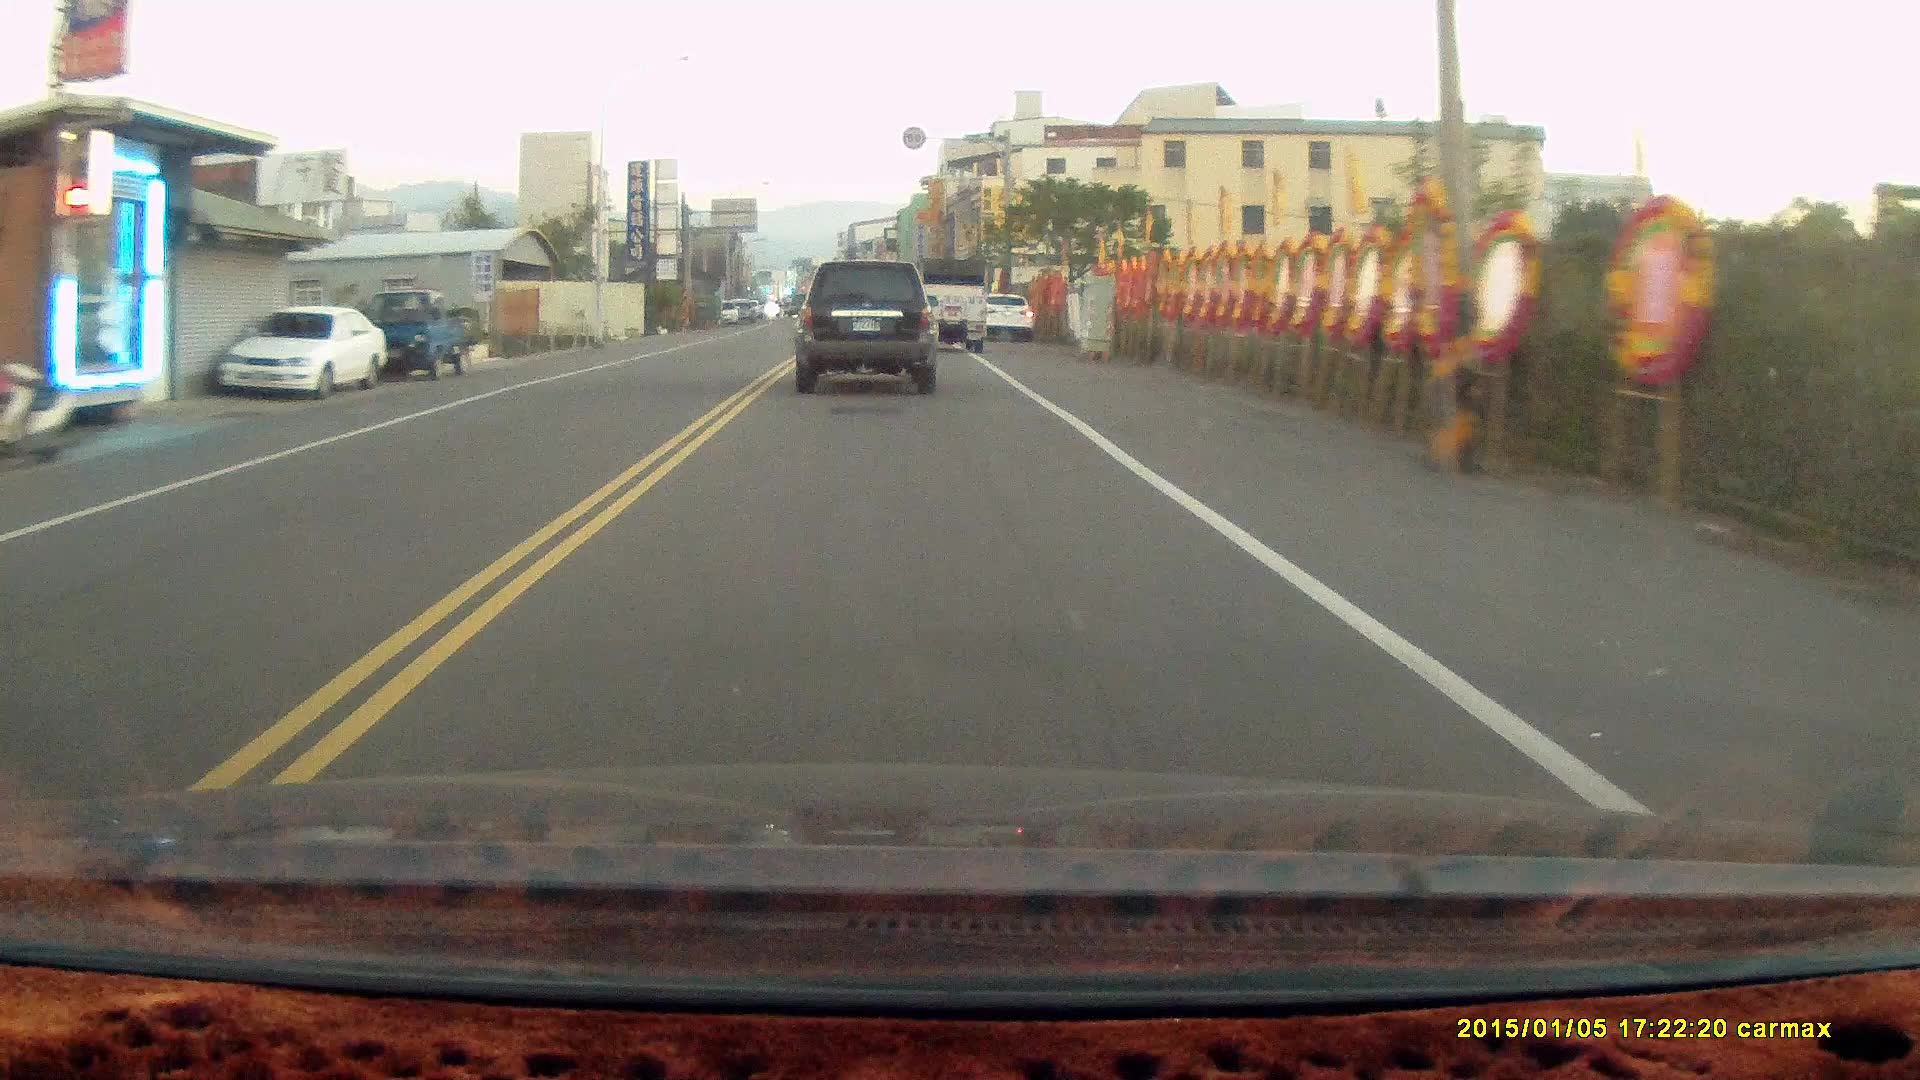vehicle: (796, 255, 943, 392), (223, 305, 390, 400), (363, 290, 472, 382), (916, 255, 994, 351)
